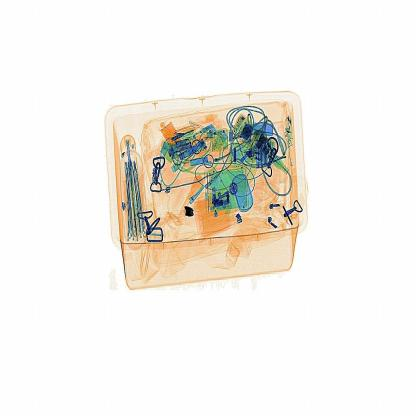wrench: (177, 201, 200, 222)
